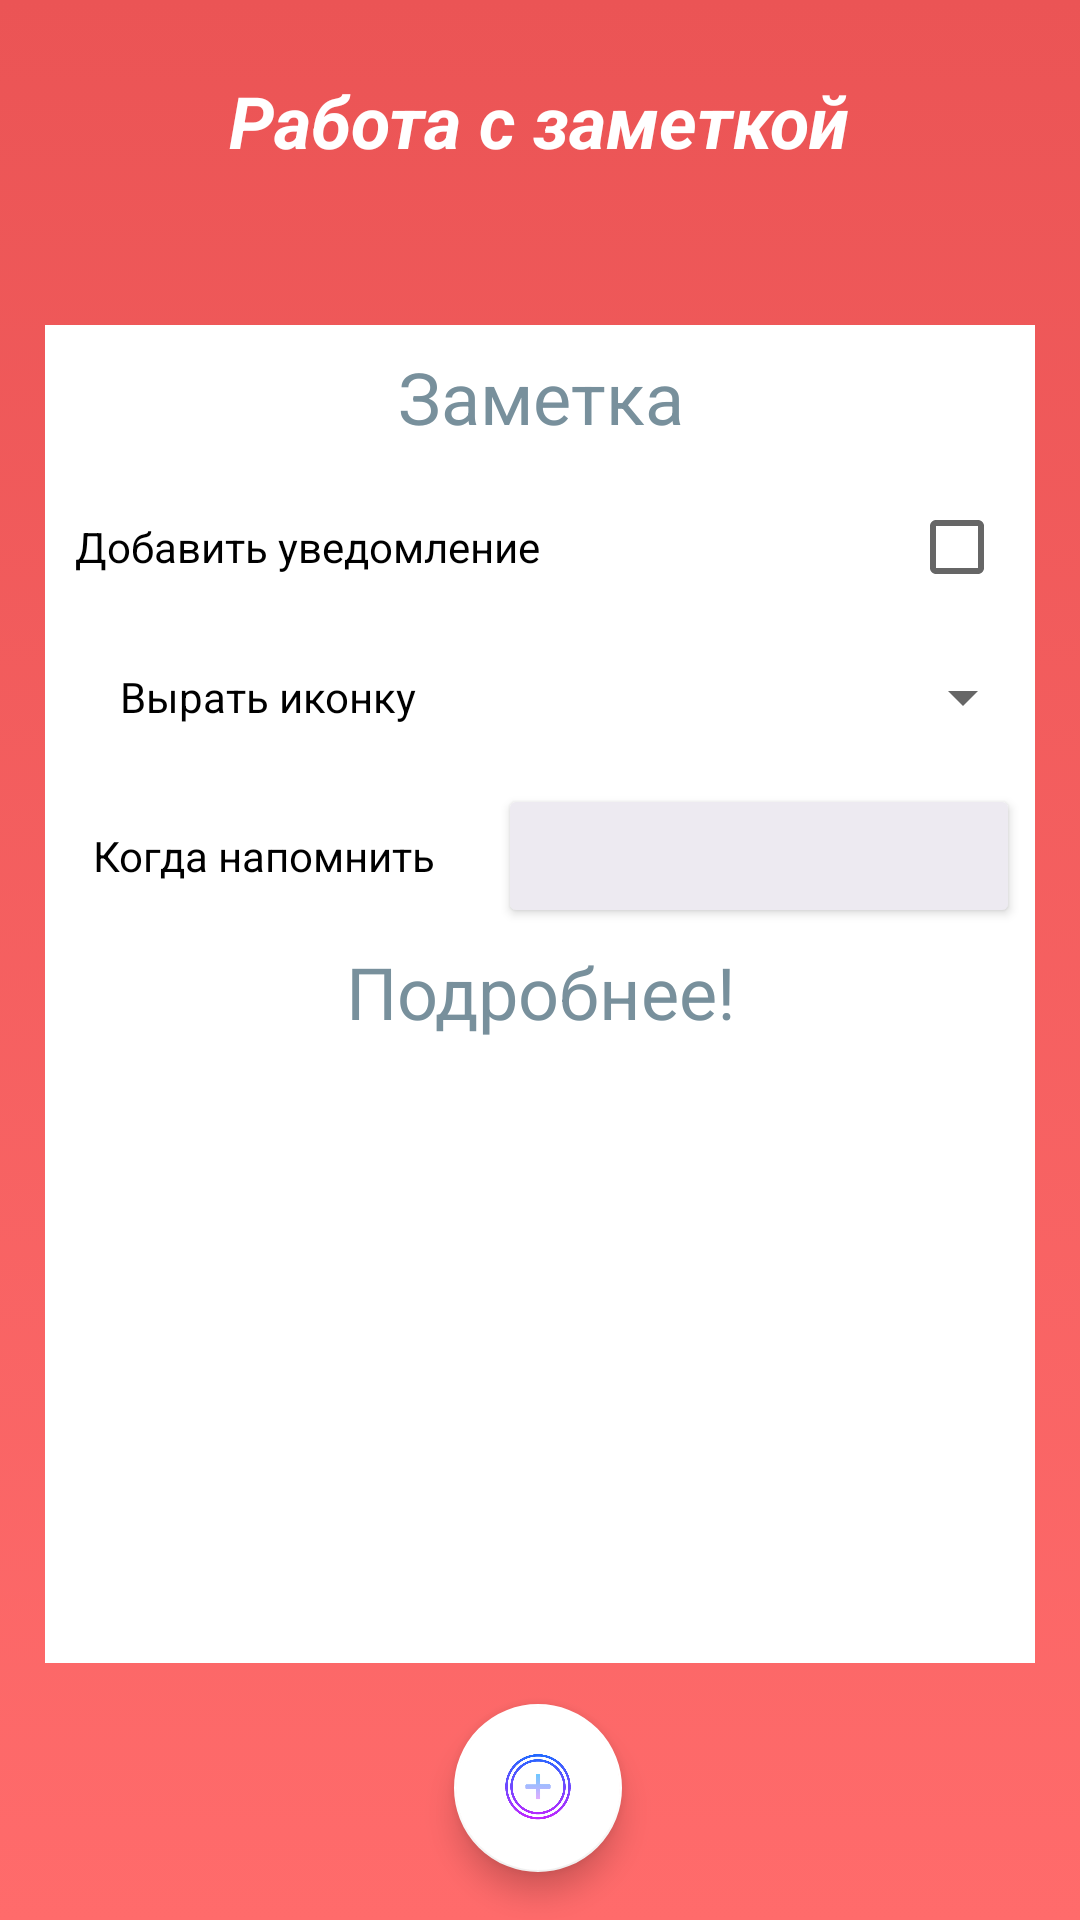

Screen size 1080x1920. Icon name, then its box in pixels as (x1, y1, x2, y2):
add: (454, 1704, 622, 1872)
